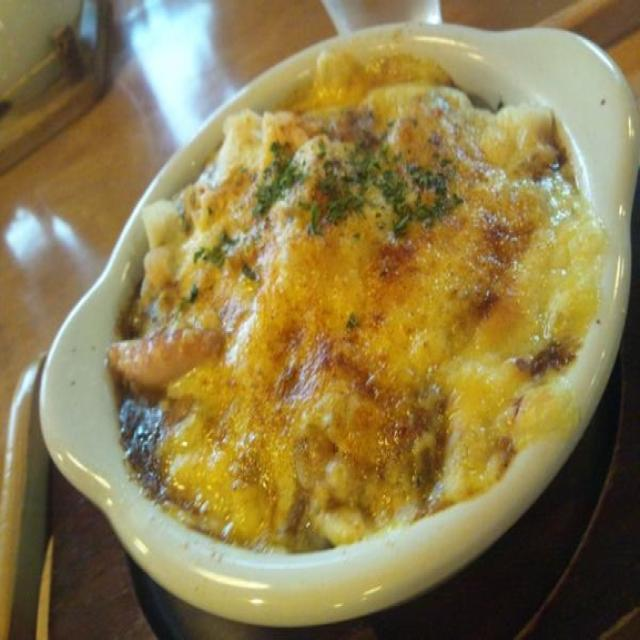米饭主食: (43, 21, 616, 585)
